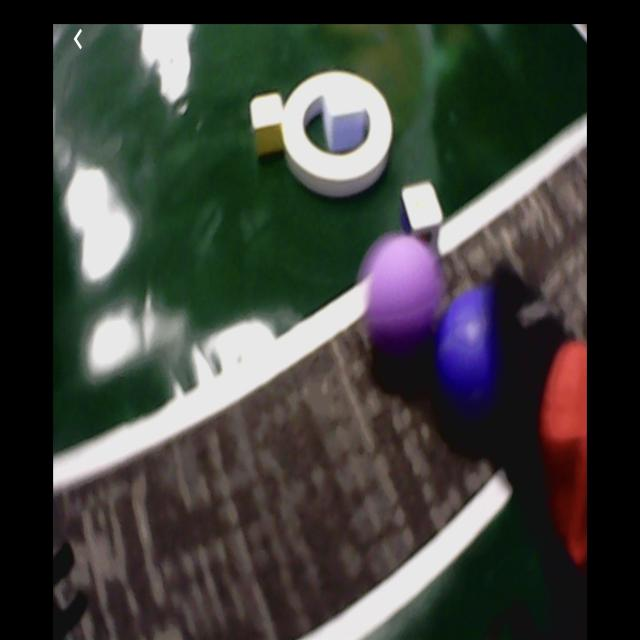ball: (364, 239, 441, 348), (438, 288, 505, 408)
